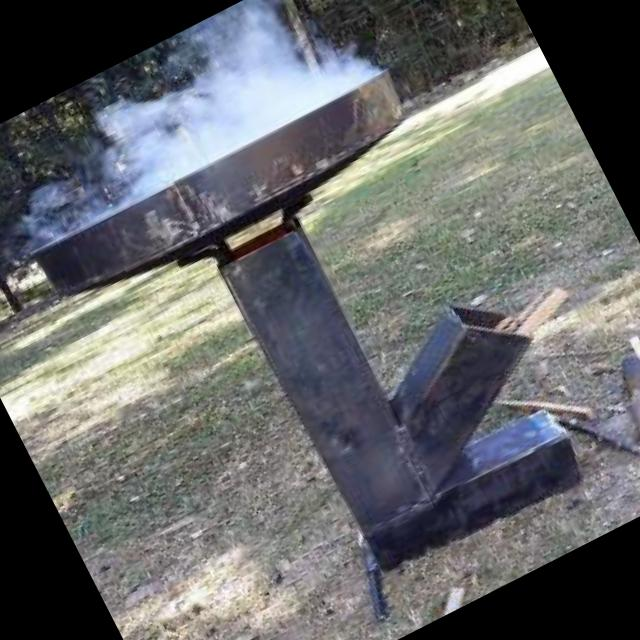smoke: (0, 0, 382, 261)
